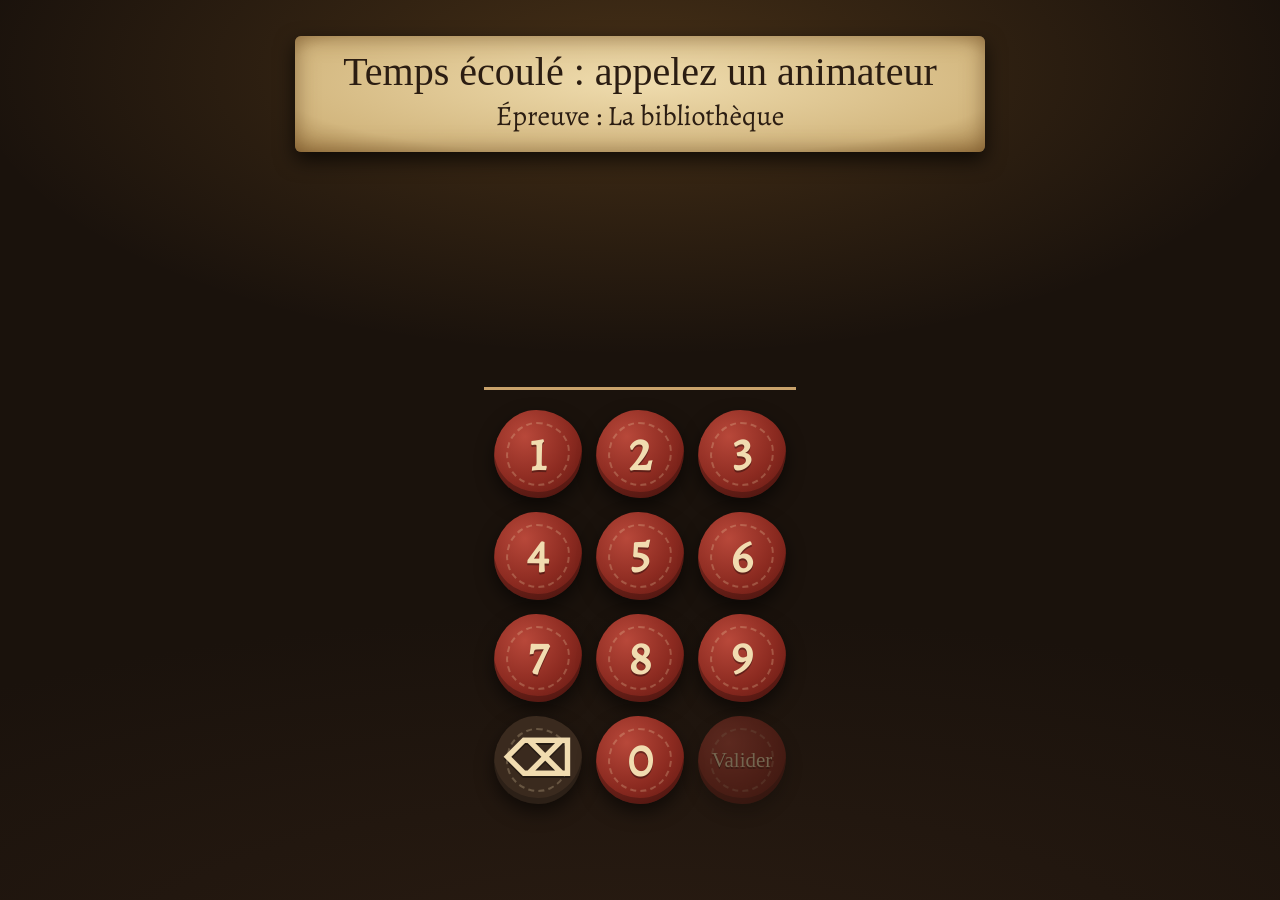
TimeUpScreen › tells the story of the room with the digit given by the animator
Expected: the text "Le fantôme soupire." is not shown
Click the button "2": [640, 454] box [596,410,684,498]
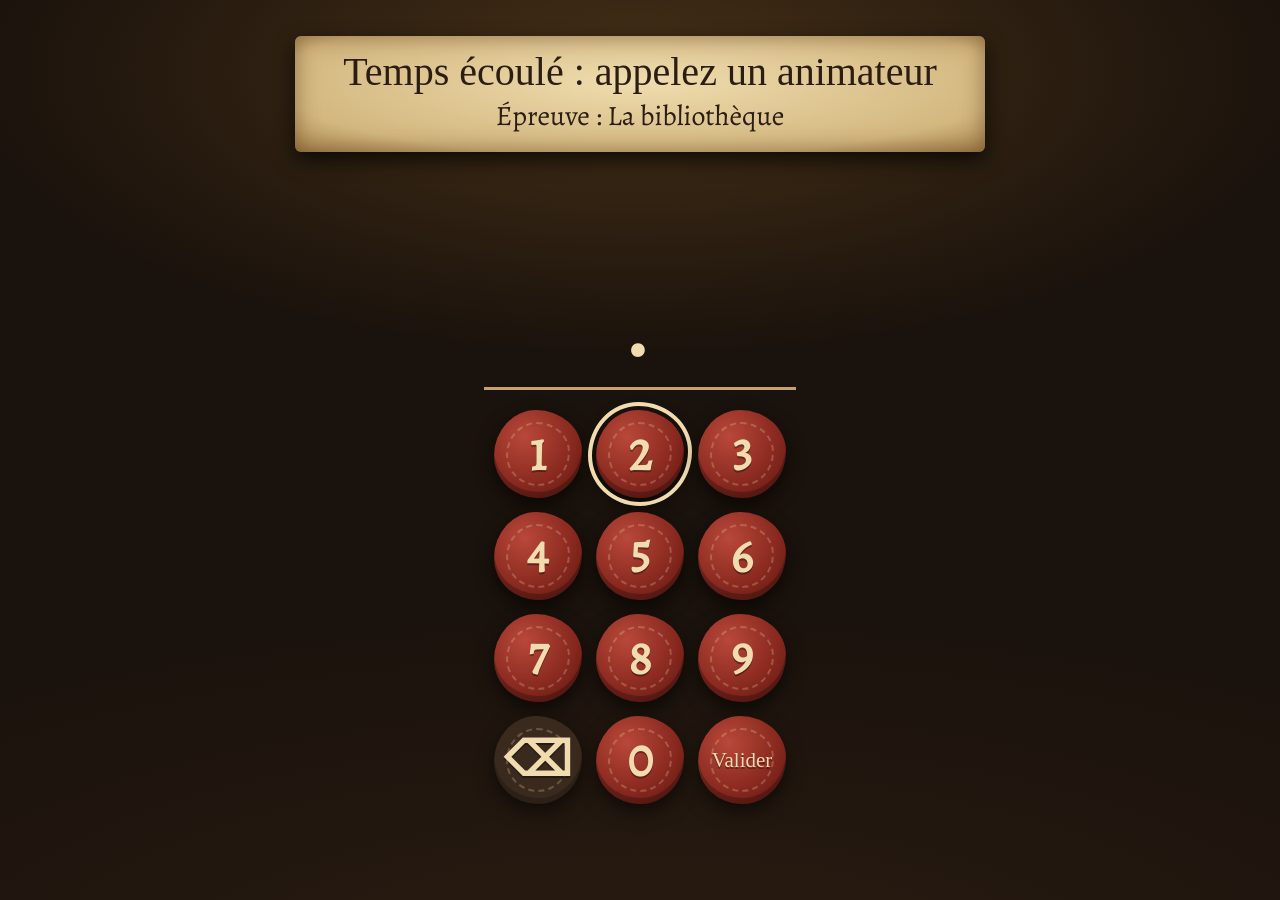
Click the button "7": [538, 658] box [494,614,582,702]
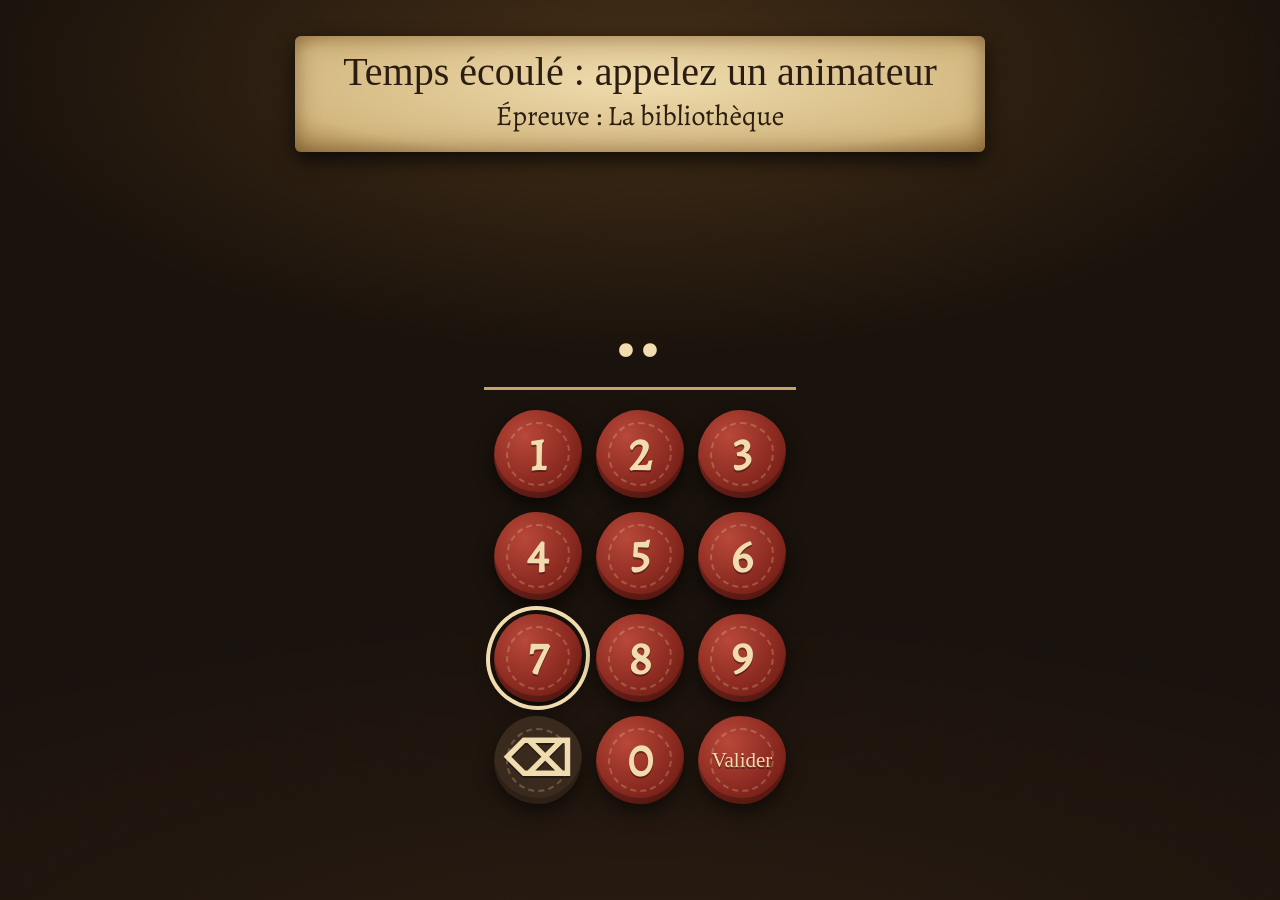
Click the button "1": [538, 454] box [494,410,582,498]
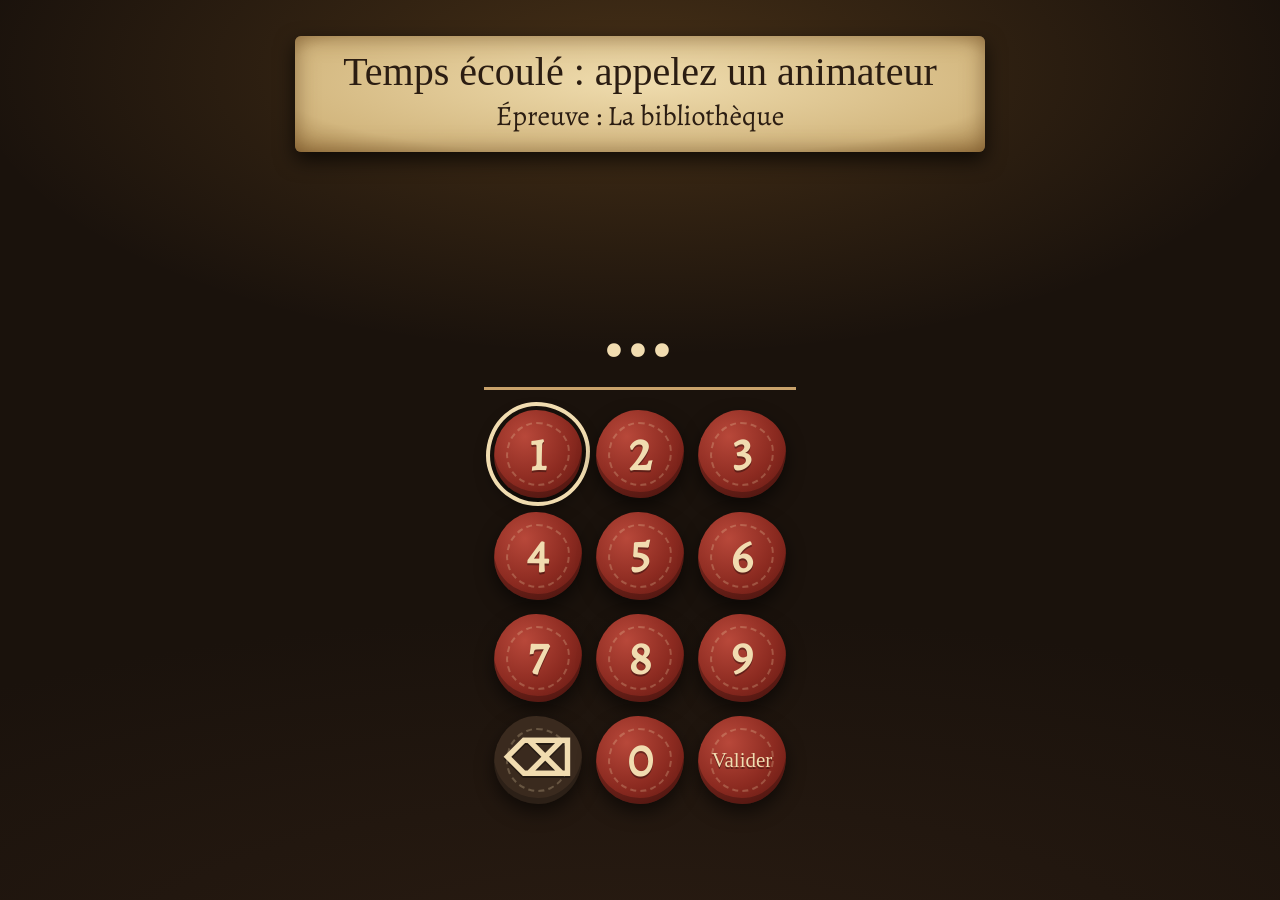
Click the button "0": [640, 760] box [596,716,684,804]
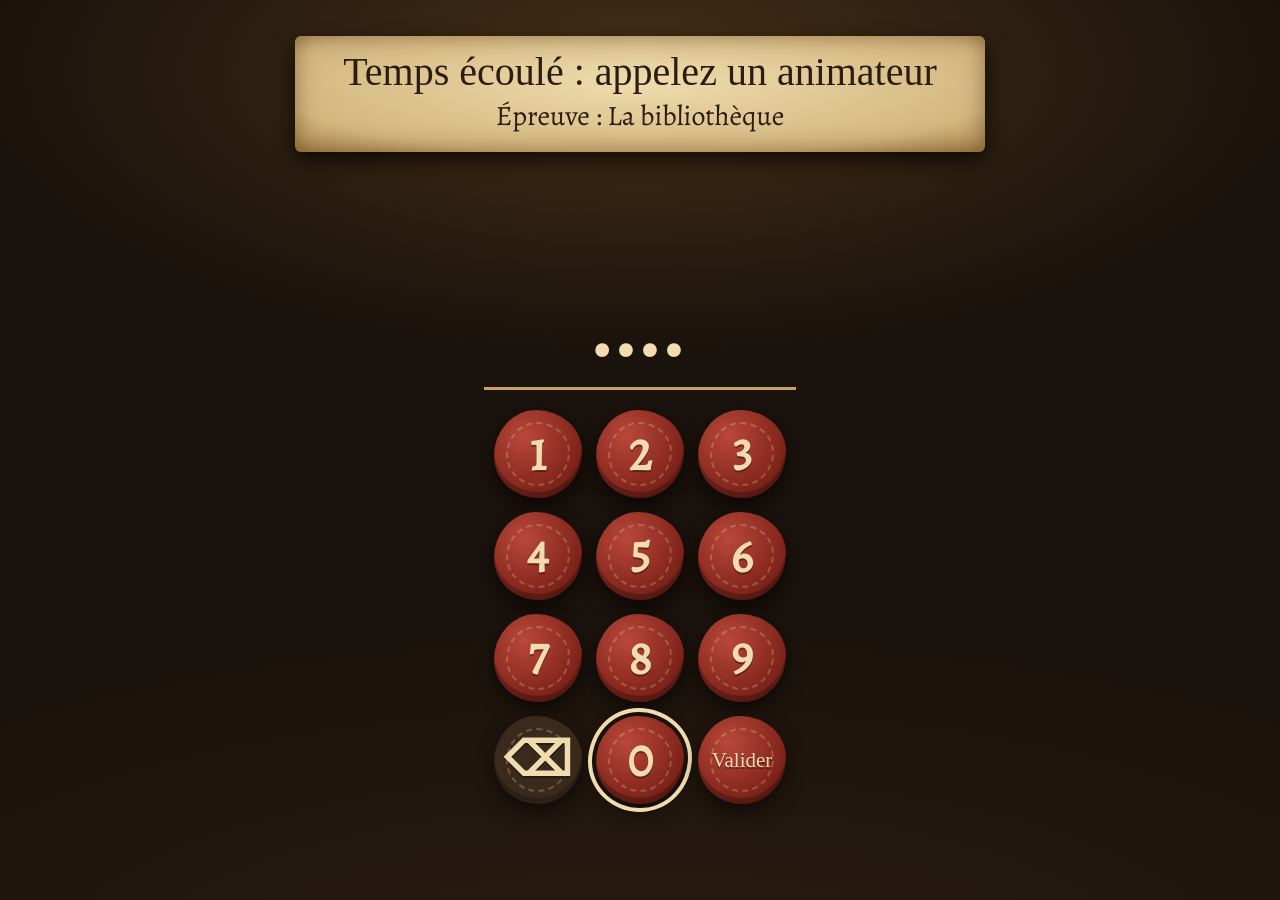
Click the button "Valider": [742, 760] box [698,716,786,804]
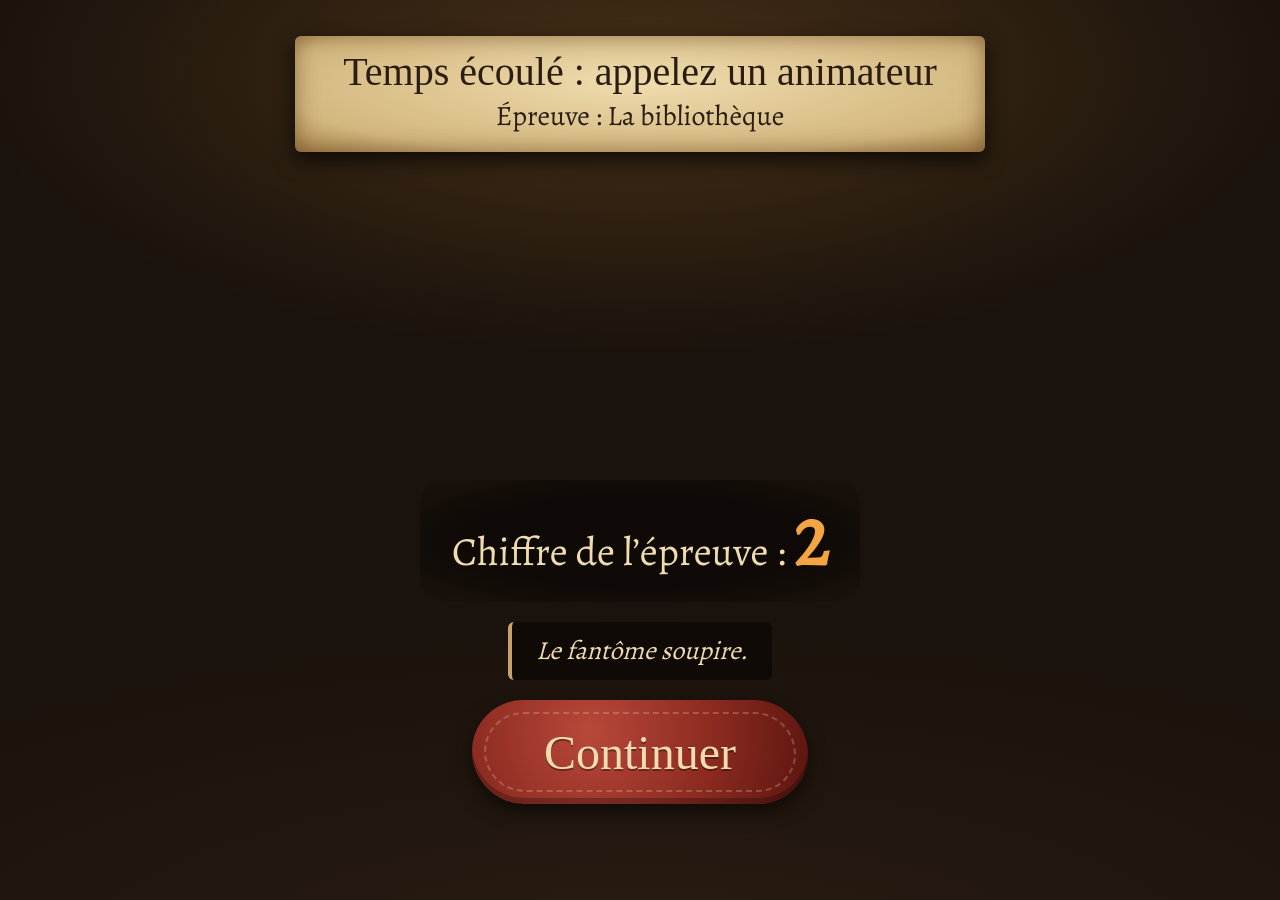
Expected: the text "Le fantôme soupire." is shown, [508,622,772,680]
